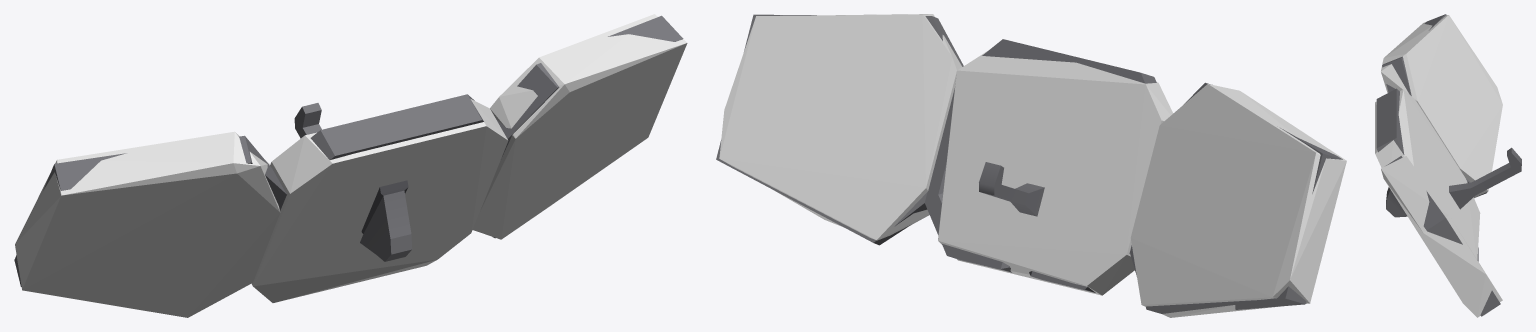
Rendered from SM_Prop_Satellite_03.fbx.
3 renders of one model, left to right at view 1: azimuth 30°, elevation 25°; view 2: azimuth 150°, elevation 25°; view 3: azimuth 270°, elevation 25°, orthographic. The views are drawn at different scales.
Visible parts, largest first — view 1: SM_Prop_Satellite_03_ConvexHulls, SM_Prop_Satellite_03_LOD0; view 2: SM_Prop_Satellite_03_ConvexHulls, SM_Prop_Satellite_03_LOD0; view 3: SM_Prop_Satellite_03_ConvexHulls, SM_Prop_Satellite_03_LOD0.
Boxes of the visible parts, left/top/right/bottom form: SM_Prop_Satellite_03_ConvexHulls: left=15, top=14, right=687, bottom=317; SM_Prop_Satellite_03_LOD0: left=14, top=15, right=683, bottom=286; SM_Prop_Satellite_03_ConvexHulls: left=719, top=14, right=1346, bottom=317; SM_Prop_Satellite_03_LOD0: left=716, top=14, right=1342, bottom=313; SM_Prop_Satellite_03_ConvexHulls: left=1375, top=15, right=1502, bottom=317; SM_Prop_Satellite_03_LOD0: left=1376, top=14, right=1521, bottom=316.
Bounding box in the file's own units: 89.27 × 302 × 100.
Materials: 1 (1 with a texture image).
